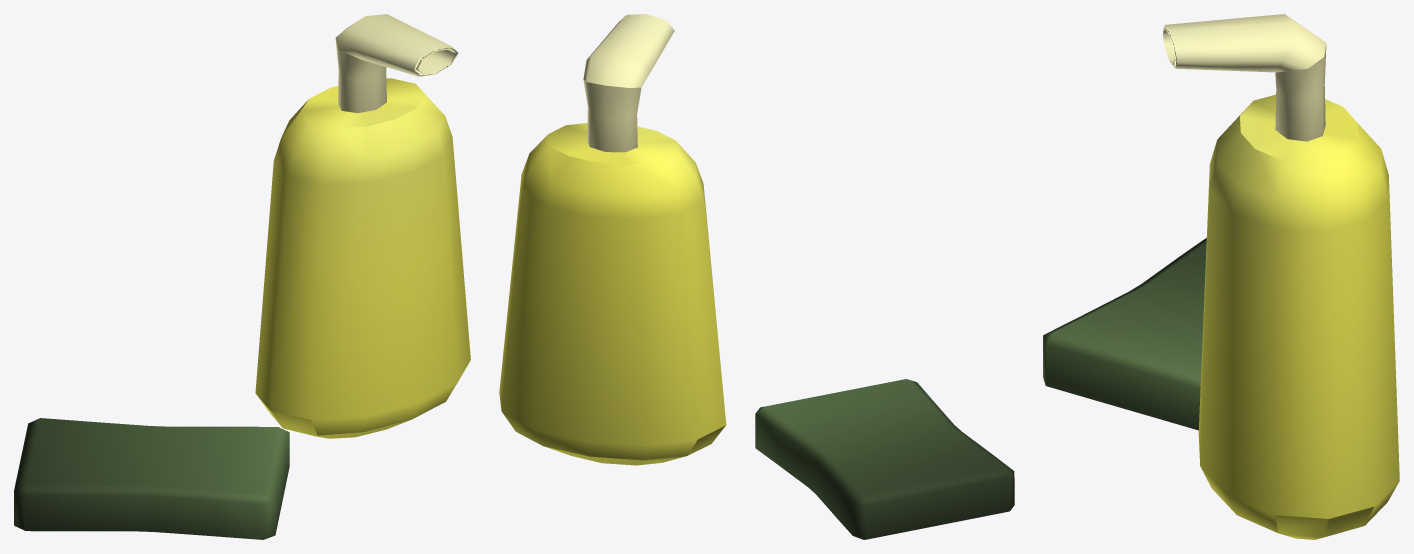
The model's file is soap.fbx.
3 renders of one model, left to right at view 1: azimuth 30°, elevation 25°; view 2: azimuth 150°, elevation 25°; view 3: azimuth 270°, elevation 25°, orthographic. The views are drawn at different scales.
Parts seen in each view (by area): view 1: soap; view 2: soap; view 3: soap.
Boxes of the visible parts, <box> form: soap: <box>14,14,470,539</box>; soap: <box>499,14,1014,539</box>; soap: <box>1043,14,1399,539</box>.
Bounding box in the file's own units: 0.7325 × 0.5856 × 0.388.
